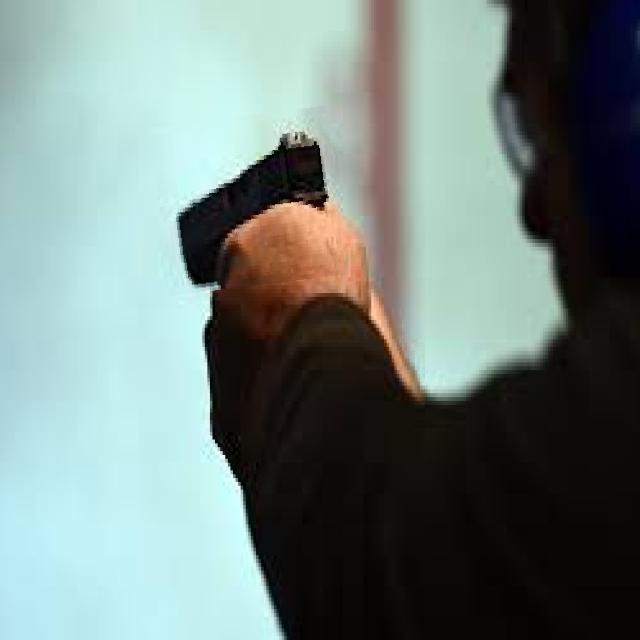Gun_Holder: (152, 101, 421, 414)
